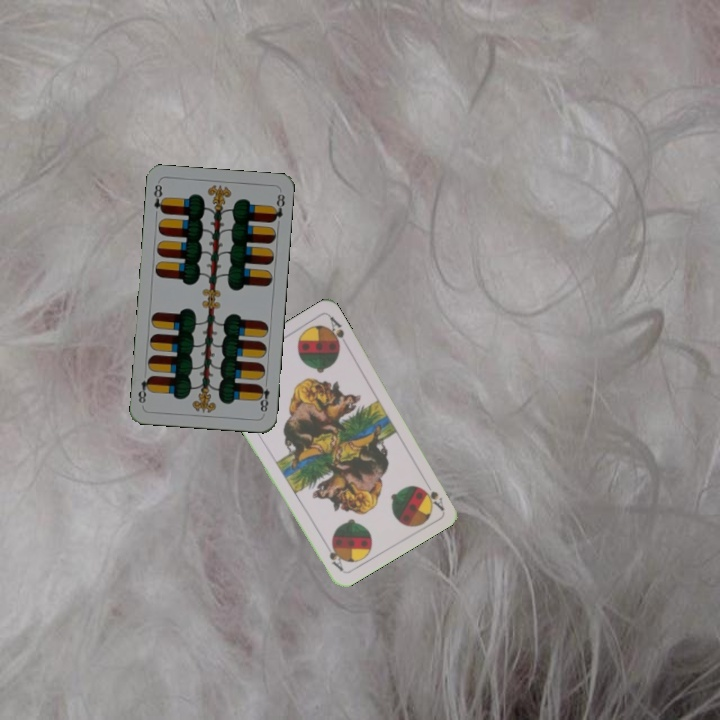E8: (254, 376, 272, 417), (149, 180, 168, 216)
SA: (421, 485, 446, 513)
